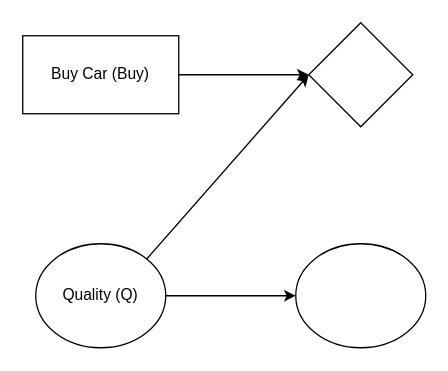
The diagram is 448 pixels wide and 371 high, and some of its shapes have lost their labels. The centre of each missing label's shape, as x and y in pixels:
"Test (T)" goes at pixel 360 295.
"Utility" goes at pixel 360 74.
